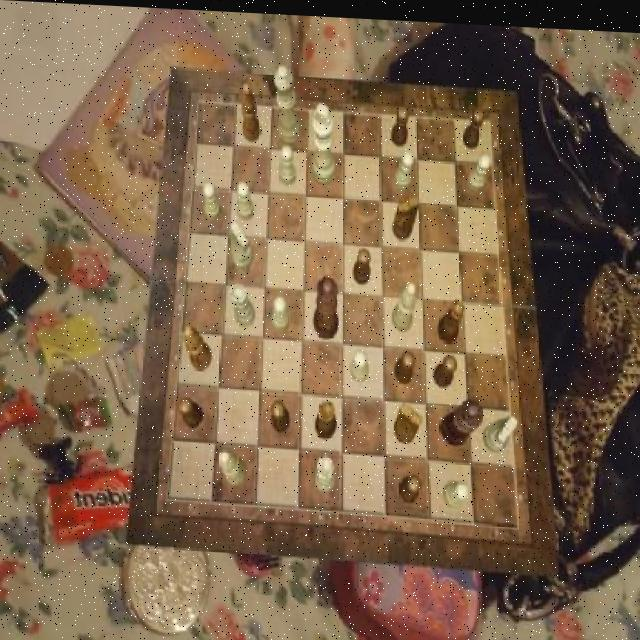bishop: (183, 323, 211, 369), (240, 81, 260, 142)
black-bishop: (440, 393, 483, 441)
black-king: (392, 191, 418, 237), (394, 399, 423, 440)
black-knight: (433, 350, 457, 385), (464, 102, 484, 144), (179, 395, 203, 427), (392, 101, 409, 143), (394, 347, 414, 381), (399, 470, 422, 498), (352, 244, 369, 281), (272, 396, 289, 430)
black-pawn: (312, 271, 338, 336)
black-queen: (438, 293, 464, 338), (315, 398, 337, 437)
black-rook: (391, 277, 415, 329), (219, 447, 246, 485)
white-bishop: (312, 100, 336, 183)
white-king: (483, 409, 519, 448), (230, 220, 252, 269)
white-knight: (467, 148, 491, 188), (392, 147, 412, 186), (278, 142, 296, 183), (443, 475, 468, 504), (204, 179, 221, 218), (235, 179, 252, 217), (350, 347, 369, 380), (272, 293, 289, 328)
white-pawn: (274, 62, 301, 142)
white-queen: (229, 282, 254, 325), (313, 451, 335, 490)
